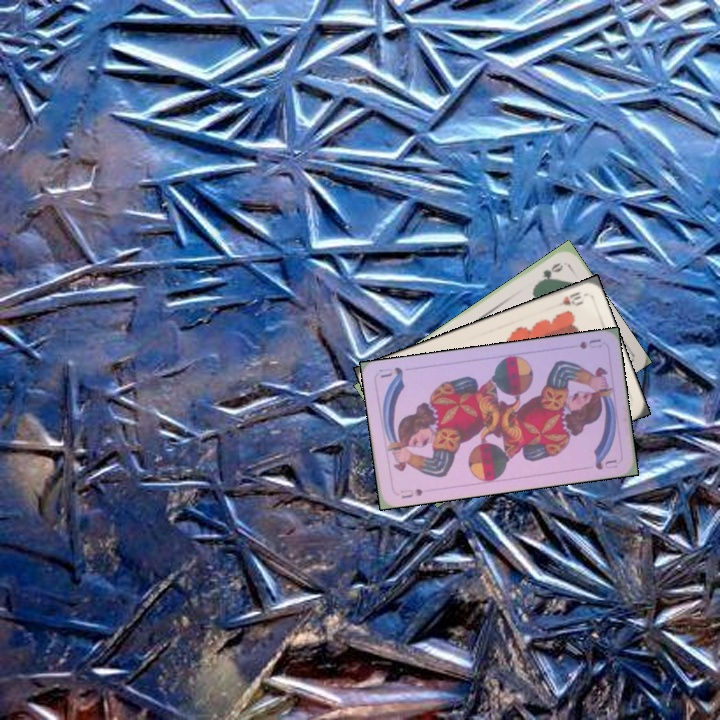GO: (532, 259, 566, 288)
H10: (549, 288, 586, 311)
SU: (575, 334, 604, 351), (397, 485, 426, 501)
